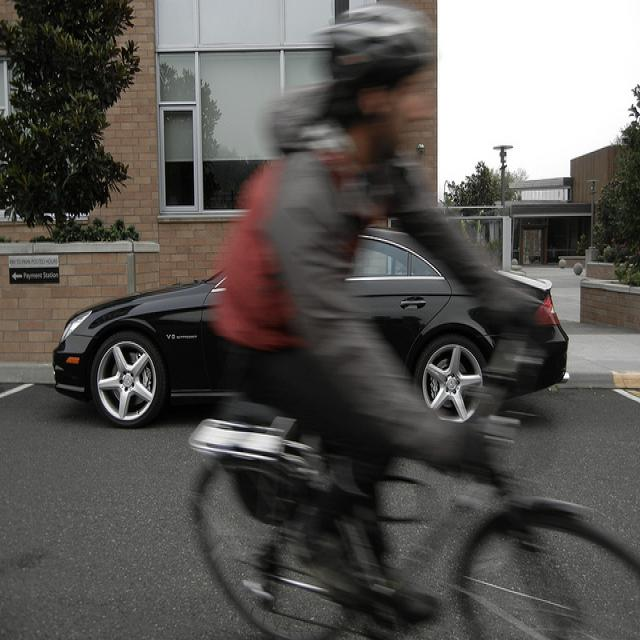Vehicle: (50, 227, 568, 427)
